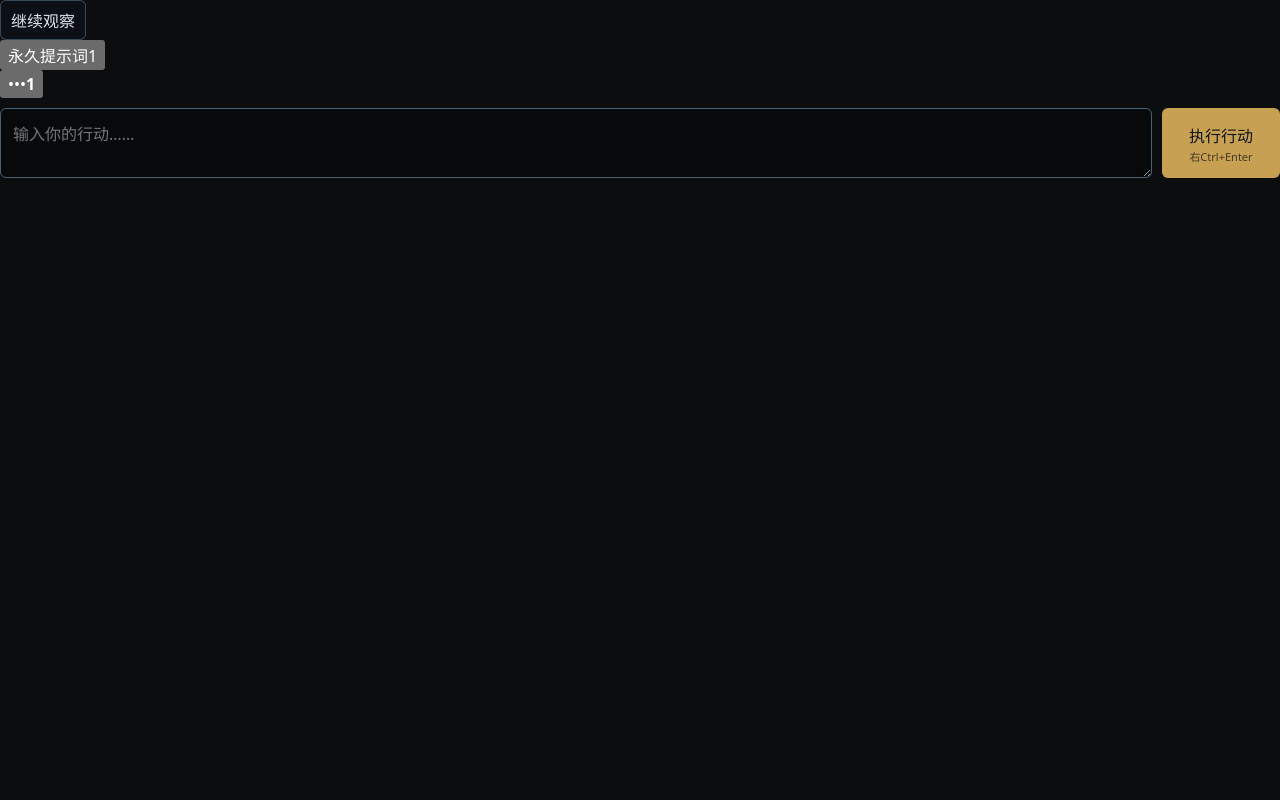
Test: CommandBar › opens permanent prompt management from the right side of the action row
Click the button with aria-label "管理永久提示词".
click(53, 55)  # box [0,40,105,70]
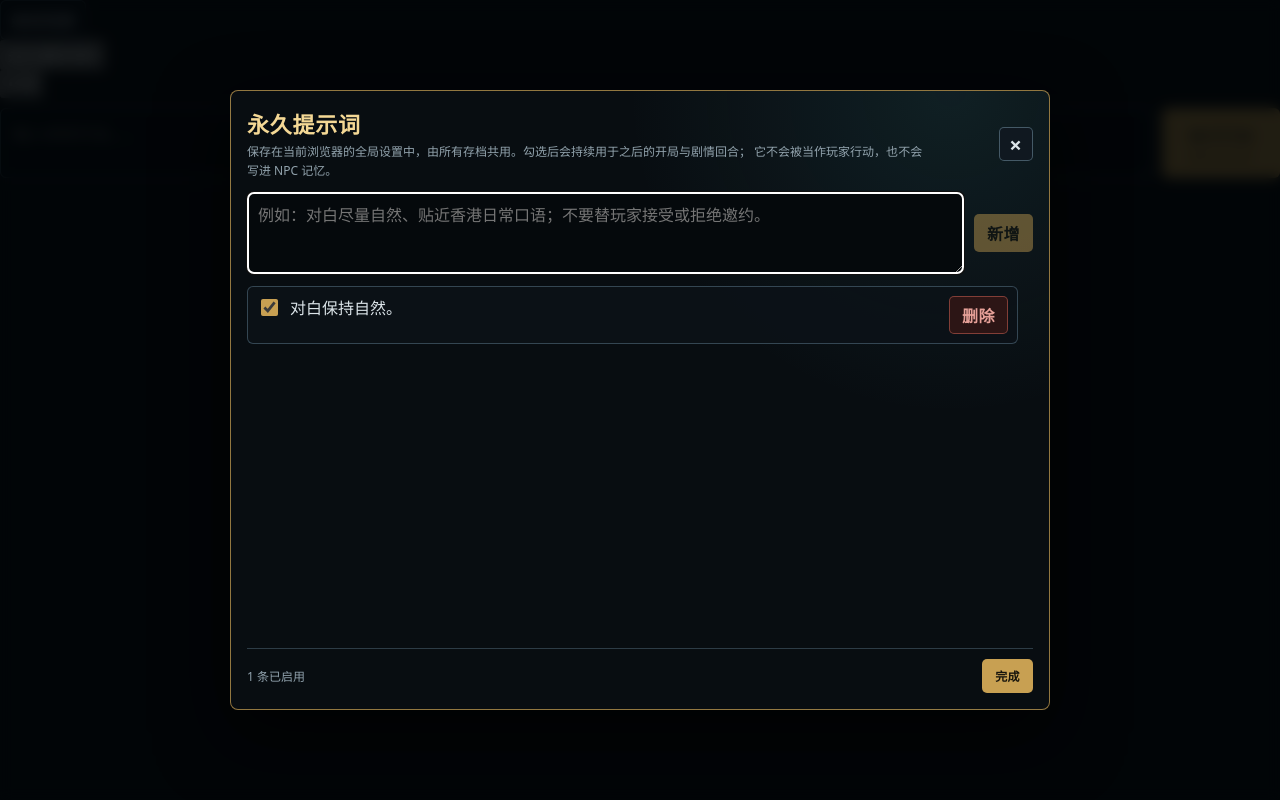
Now the dialog "永久提示词" is shown, box [230,90,1050,710]
Now the text "对白保持自然。" is shown, box [290,296,402,321]
